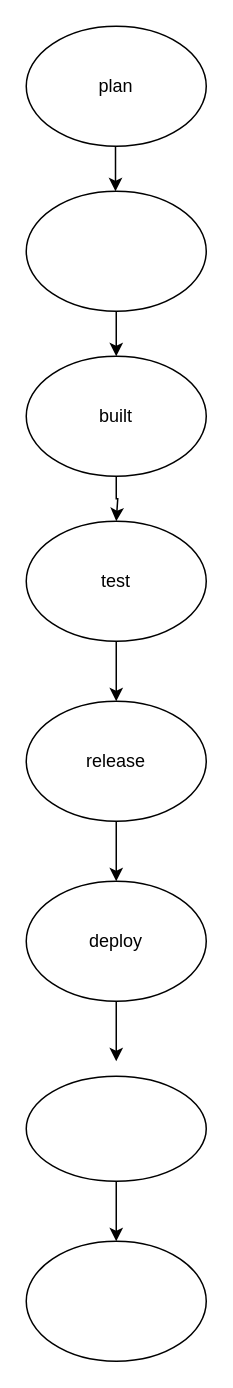
This 233x1388 diagram has some shape labels left out. Here are the shapes that lost their labels. From the top down, the centre of each, then its label:
the point at 115,250: develop
the point at 115,1128: operate
